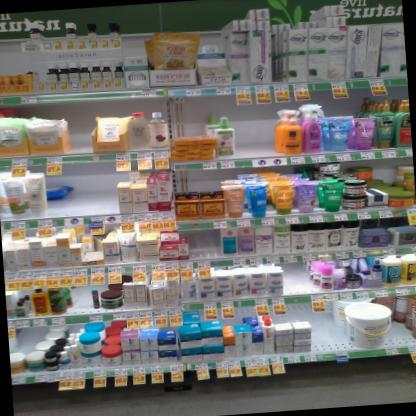empty_space: (309, 300, 348, 354), (255, 93, 283, 158), (61, 101, 93, 154), (232, 93, 258, 158), (96, 160, 120, 216), (78, 162, 100, 216), (43, 163, 64, 218), (65, 276, 92, 316), (61, 162, 80, 218), (285, 261, 304, 294), (202, 229, 221, 259), (186, 230, 204, 260), (302, 261, 318, 293)
